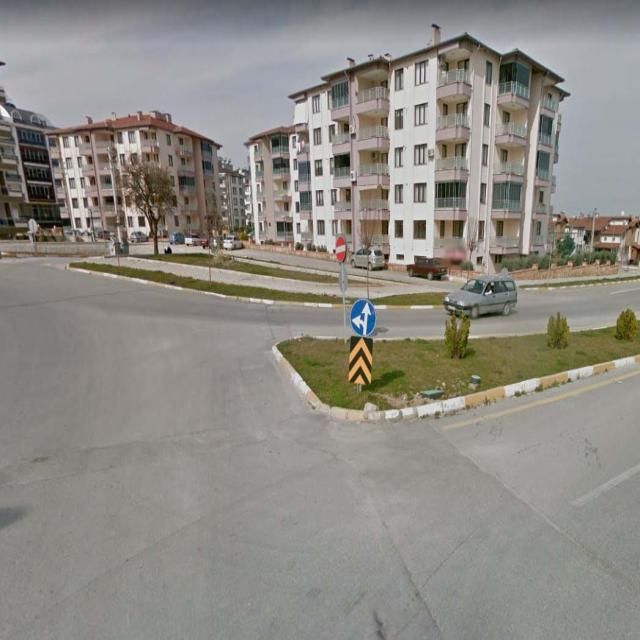girisyok: (334, 237, 346, 263)
ilerisol: (349, 298, 377, 336)
